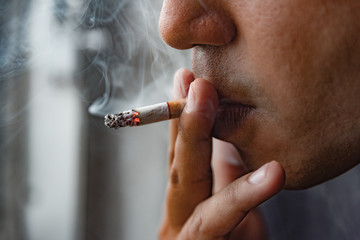cigarette: (101, 98, 188, 131)
